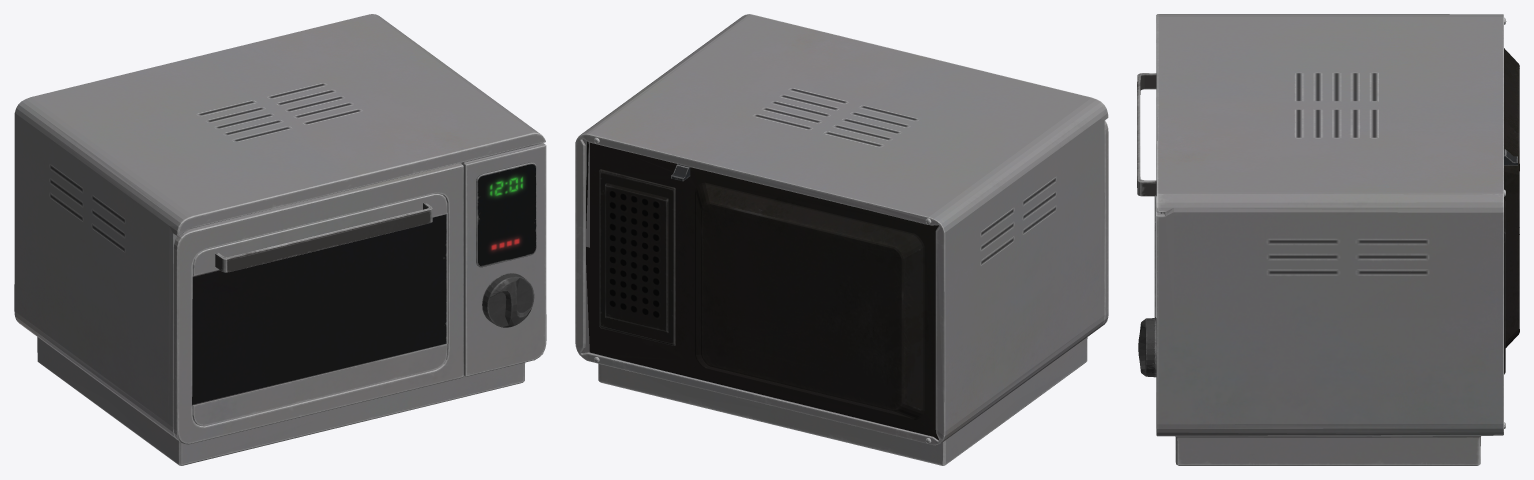
Rendered from microwave.gltf.
3 renders of one model, left to right at view 1: azimuth 30°, elevation 25°; view 2: azimuth 150°, elevation 25°; view 3: azimuth 270°, elevation 25°, orthographic. The views are drawn at different scales.
Bounding box in the file's own units: 0.0619 × 0.041 × 0.0521.
1 material, 1 textured.
